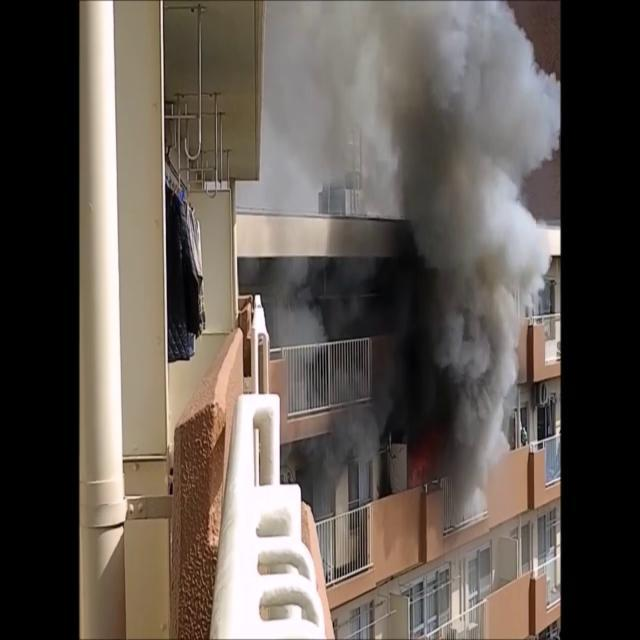Smoke: (270, 1, 544, 516)
